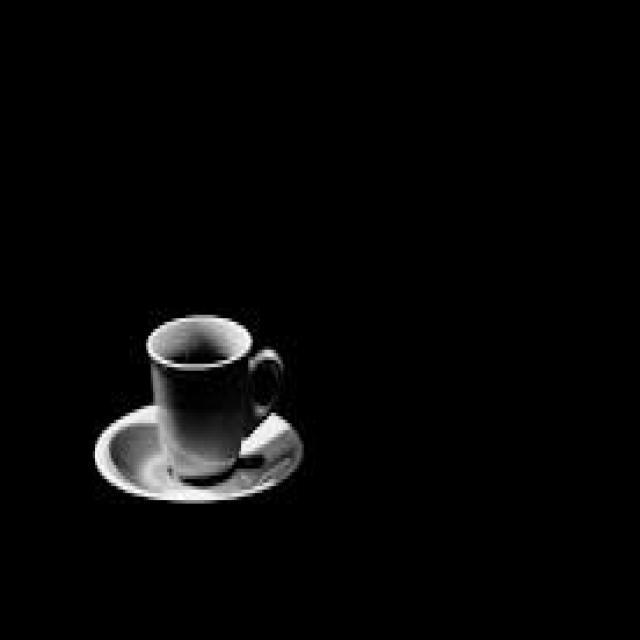taza: (137, 287, 294, 512)
